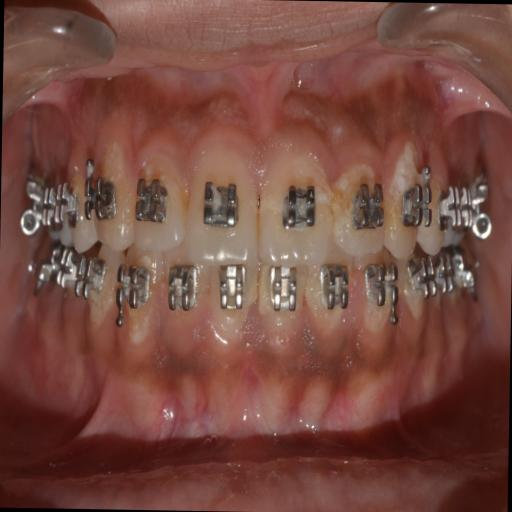correct_brace: (132, 172, 171, 234), (196, 178, 242, 230), (347, 176, 388, 234), (278, 178, 322, 232)
incorrect_brace: (332, 157, 394, 261), (130, 160, 187, 259)
